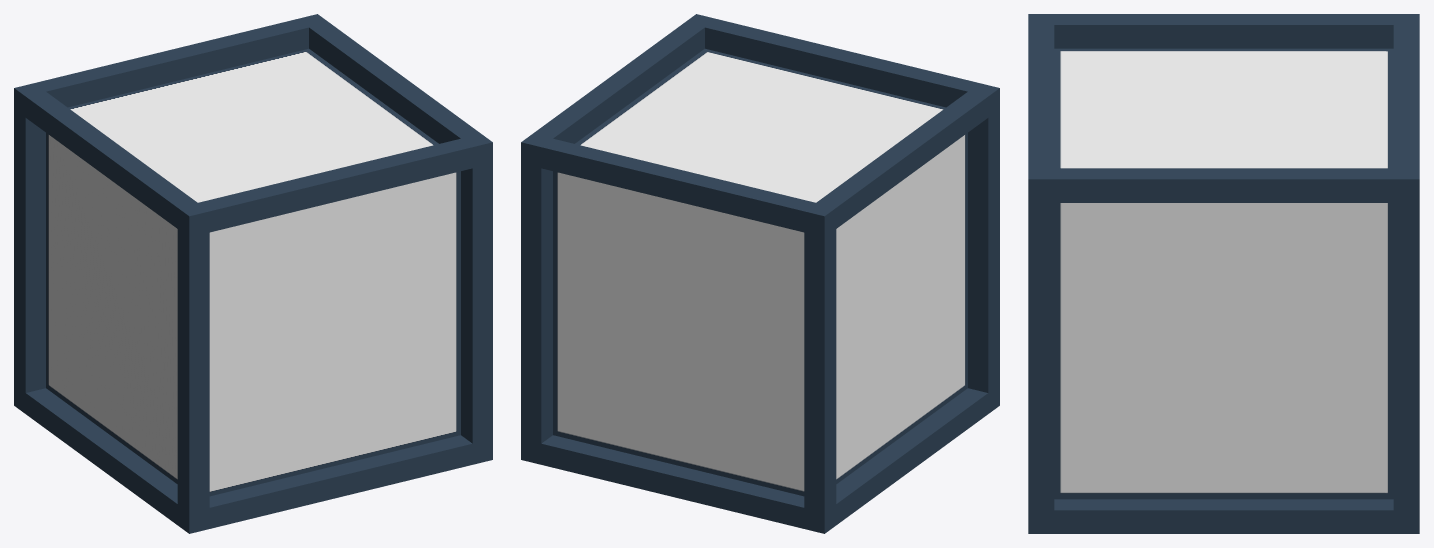
The model's file is ProgramBlock.fbx.
The picture shows the model from 3 angles, left to right: view 1: azimuth 30°, elevation 25°; view 2: azimuth 150°, elevation 25°; view 3: azimuth 270°, elevation 25°; orthographic projection. The views are drawn at different scales.
Visible parts, largest first — view 1: Cube; view 2: Cube; view 3: Cube.
Part boxes in pixels (bbox=[...]): Cube: bbox=[14, 14, 492, 533]; Cube: bbox=[521, 14, 999, 533]; Cube: bbox=[1028, 14, 1419, 533].
Size of the model in its own units: 30 by 30 by 30.
1 material, 1 textured.
